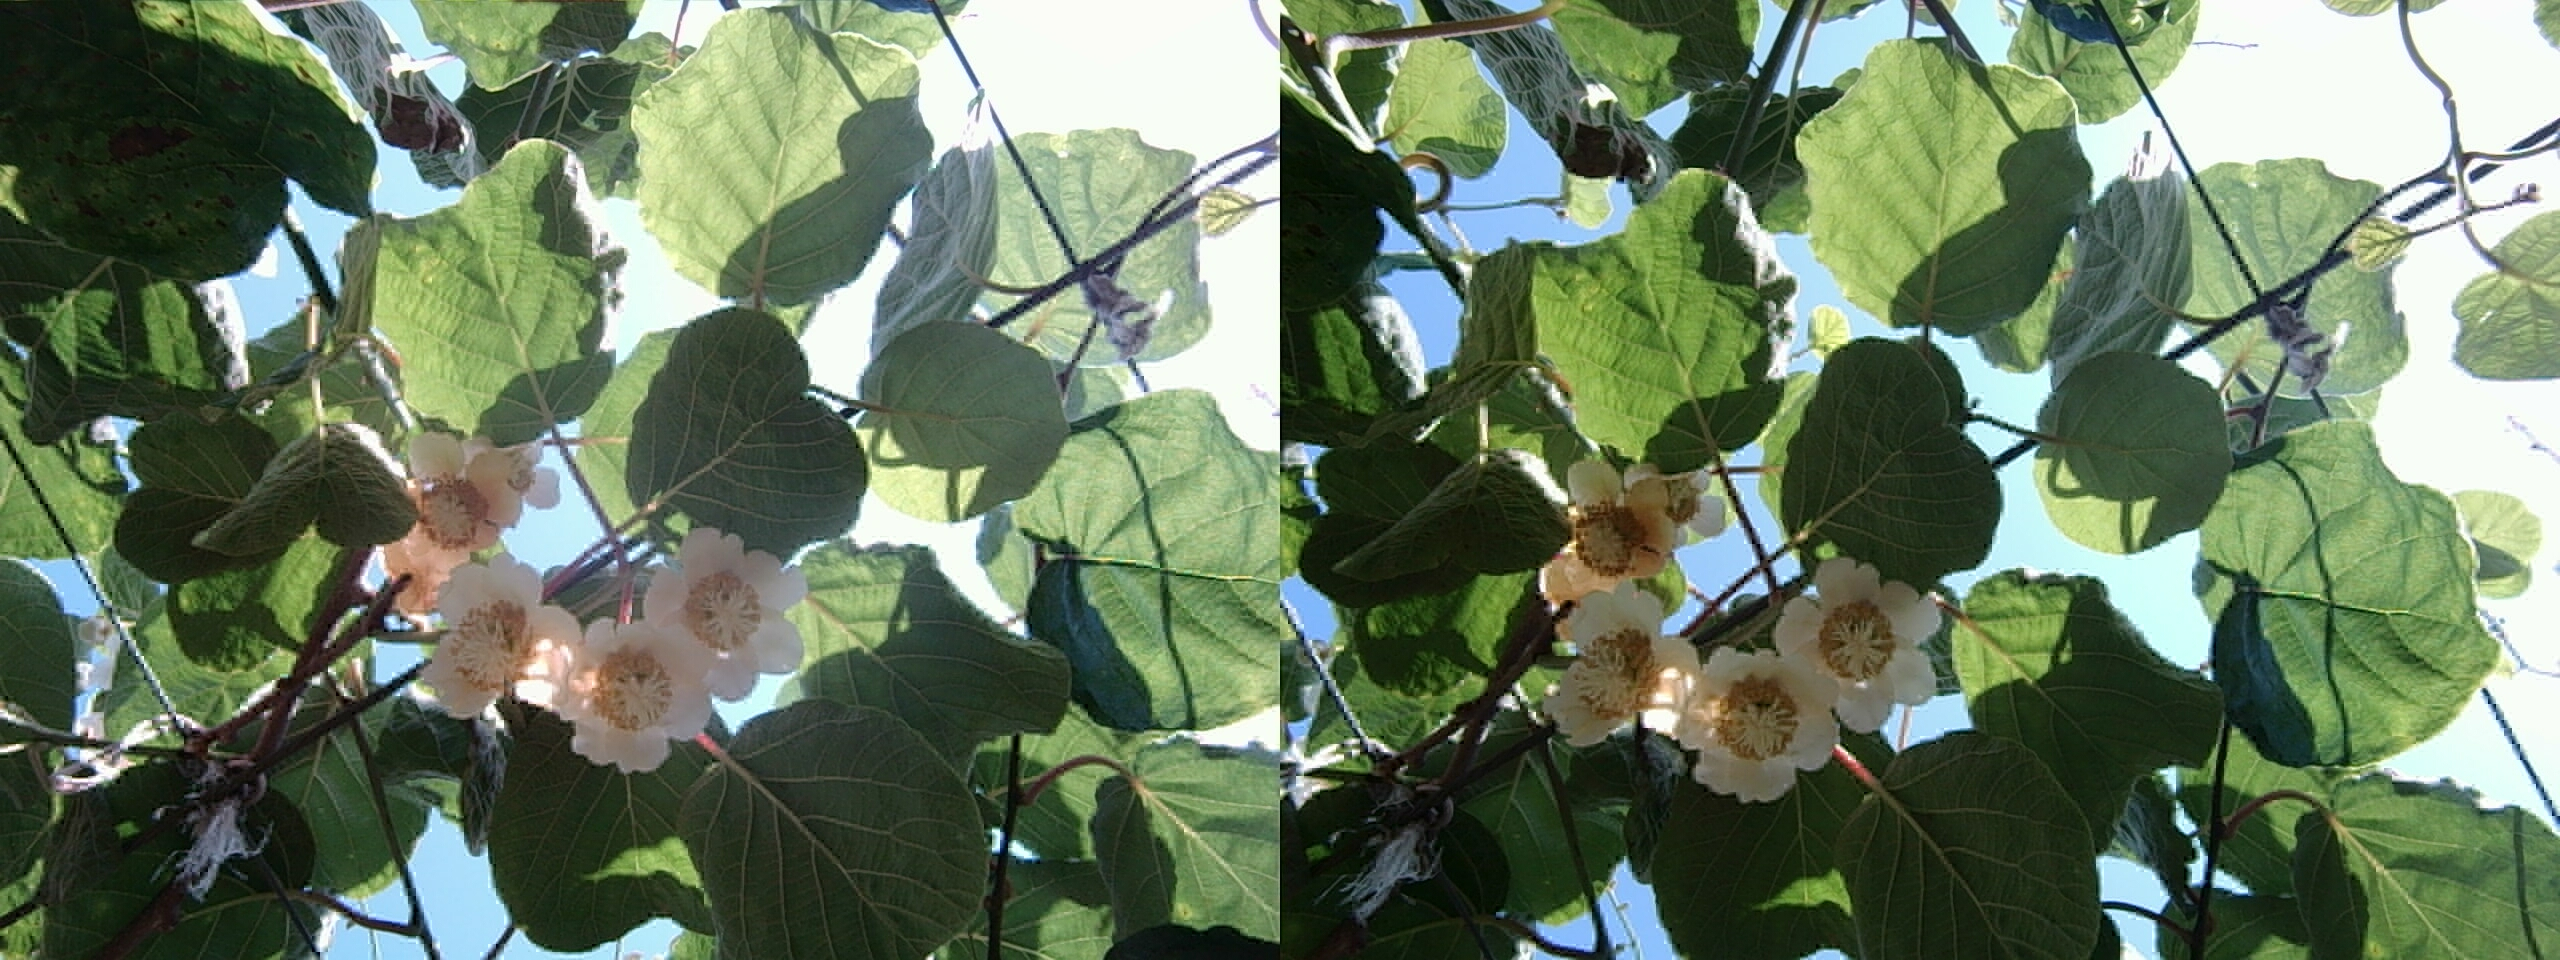flower: (553, 527, 805, 751), (532, 596, 753, 774), (1767, 555, 1959, 725), (1652, 643, 1851, 807), (389, 563, 584, 725), (638, 521, 813, 697), (376, 429, 557, 598), (1531, 583, 1700, 741)
